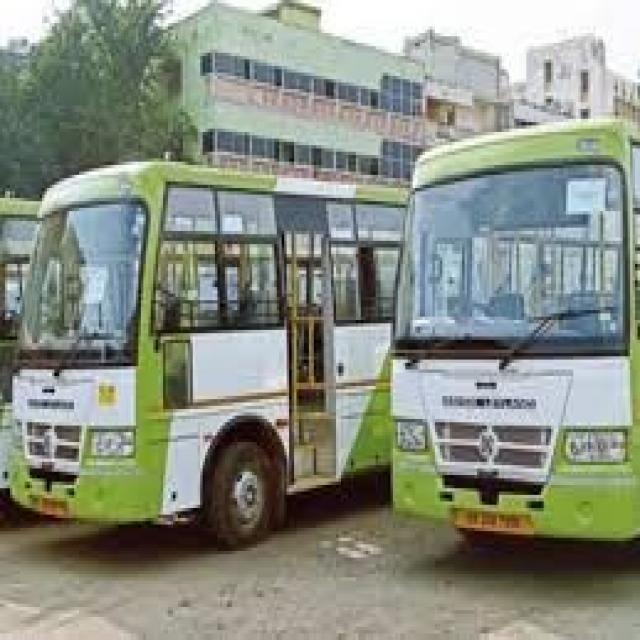bus: (8, 142, 406, 533), (389, 110, 640, 562)
